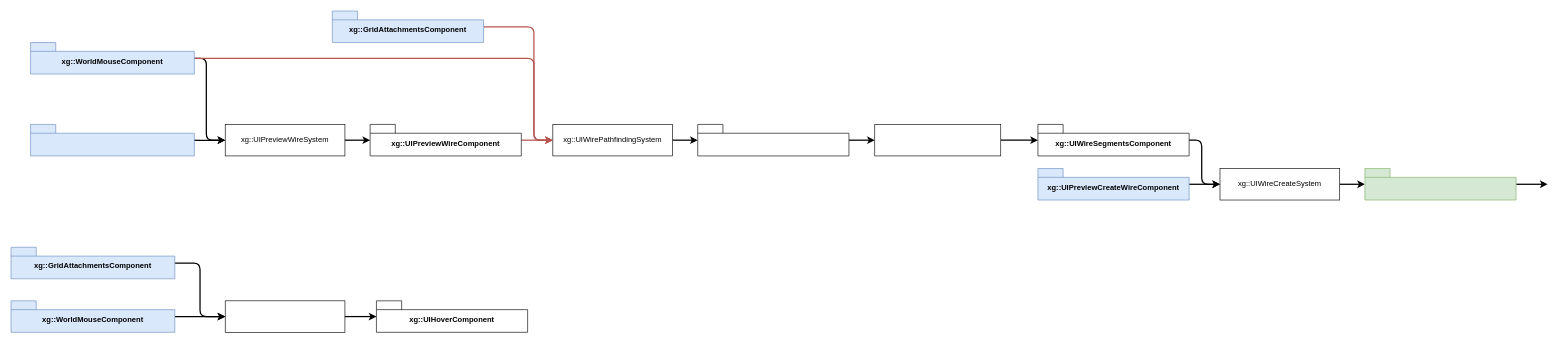
Image size: 1564x343. Some labels were removed from this diagram. The shapes that lost their labels are listed below. From the top down, each one's box as (x1, y1, x2, y2) in pixels, then its label:
(30, 124, 194, 156): xg::UIPreviewAddingWireComponent
(697, 124, 849, 156): xg::UIWirePathComponent
(874, 124, 1001, 156): xg::UIWireSegmentsSystem
(1364, 168, 1516, 200): xg::UIAddWireComponent
(225, 300, 345, 332): xg::UIHoverSystem
